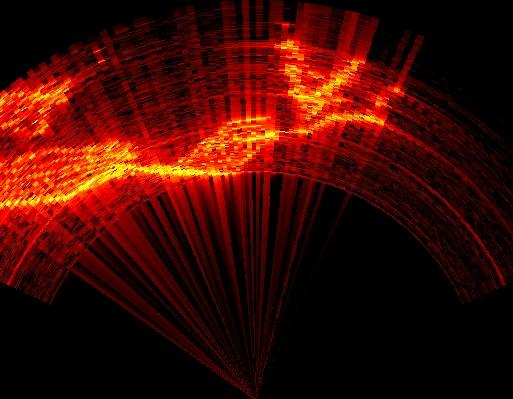shipwreck: (0, 40, 390, 204)
